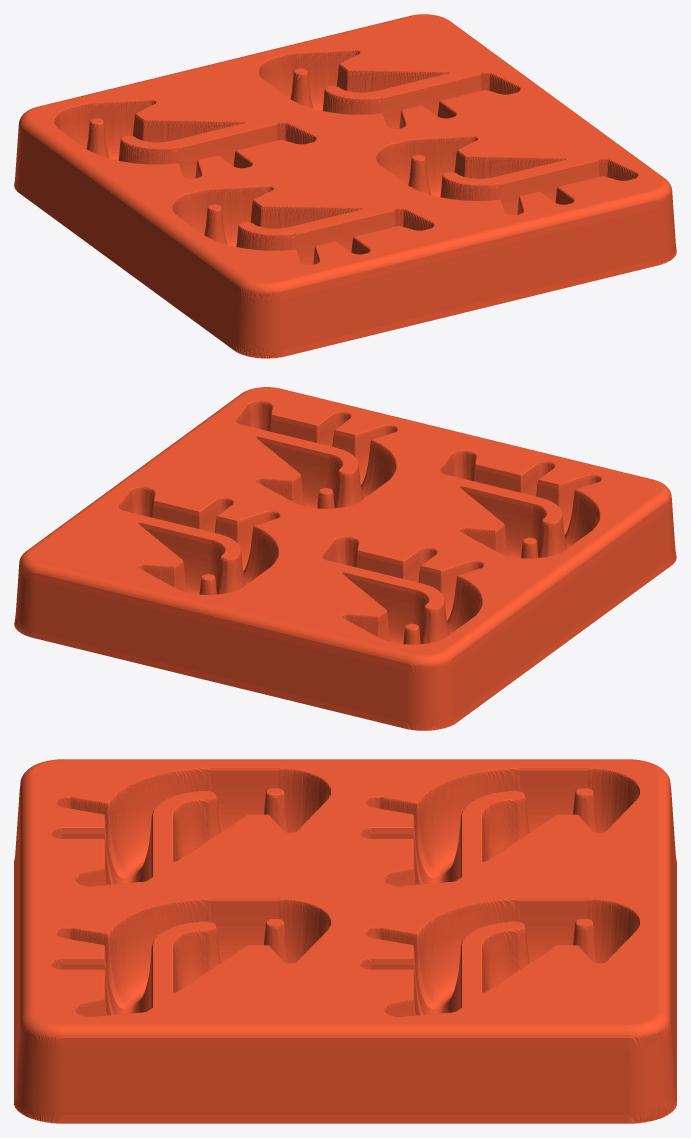
The model's file is mold.glb.
3 views of the same model, one above another, from view 1: azimuth 30°, elevation 25°; view 2: azimuth 150°, elevation 25°; view 3: azimuth 270°, elevation 25° (orthographic). The views are drawn at different scales.
Visible parts, largest first — view 1: geometry_0; view 2: geometry_0; view 3: geometry_0.
Boxes of the visible parts, x1,y1,x2,y2 form: geometry_0: (14,14,676,358); geometry_0: (14,387,676,730); geometry_0: (14,759,676,1123).
Size of the model in its own units: 0.1218 by 0.0185 by 0.1218.
